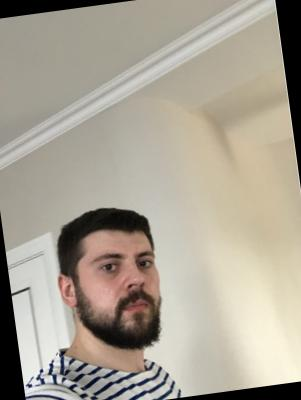without_mask: (82, 236, 169, 358)
